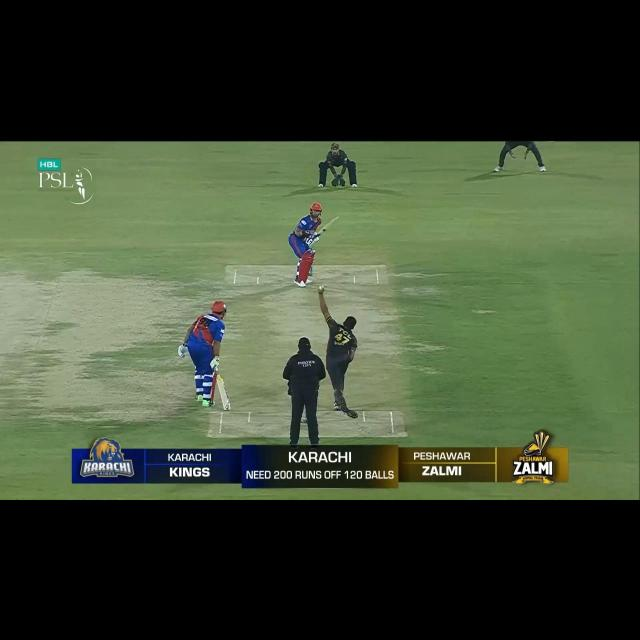bat: (215, 375, 230, 414), (315, 217, 339, 236)
toe: (221, 402, 231, 411), (332, 216, 340, 221)
